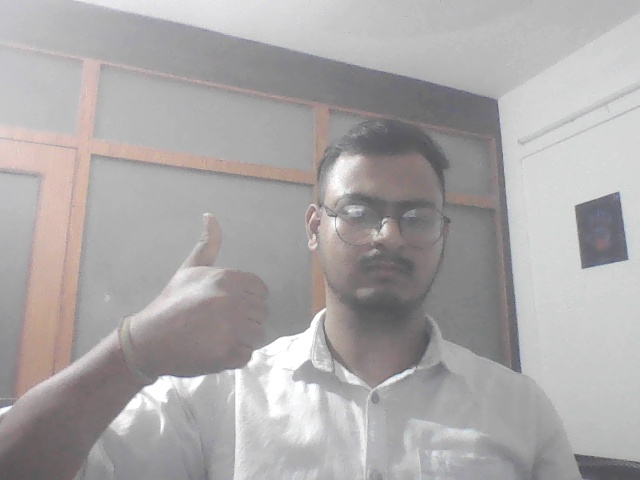Good: (128, 211, 280, 384)
